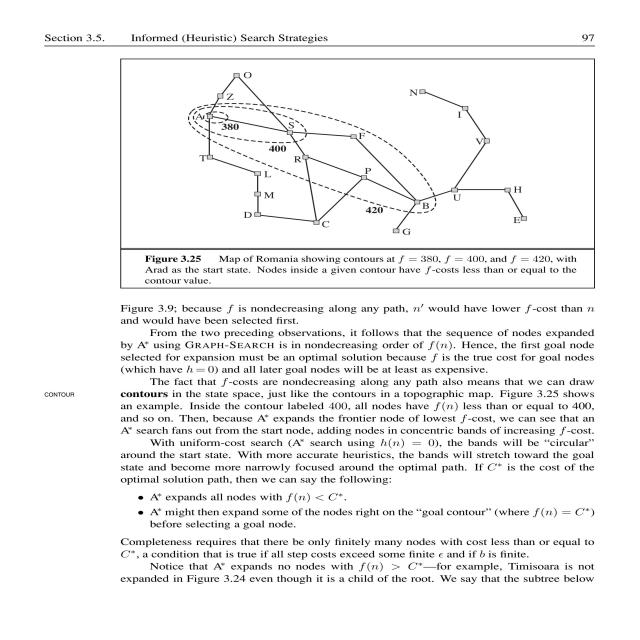diagram: (35, 50, 640, 303)
